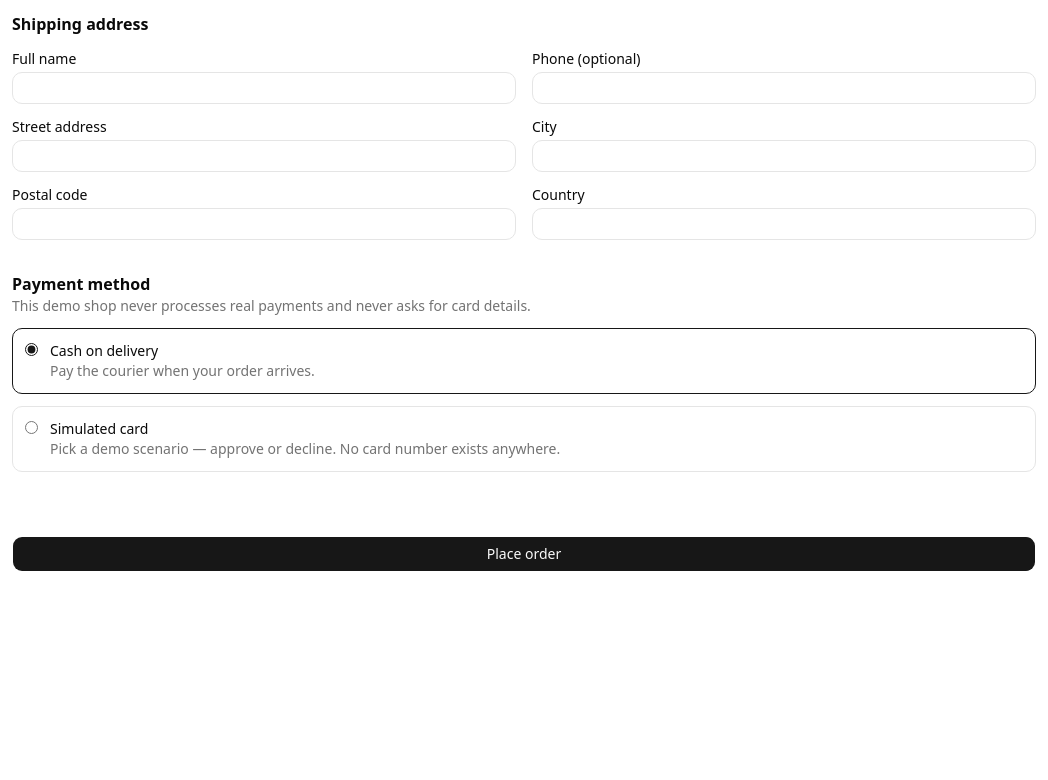
Test: CheckoutForm › lists the affected items and links to the cart on a stock conflict
The width and height of the screenshot is (1048, 780).
Type "Ada Lovelace" into the field labelled "Full name" at {"x": 264, "y": 88}, box top-left (12, 72), bottom-right (516, 104)
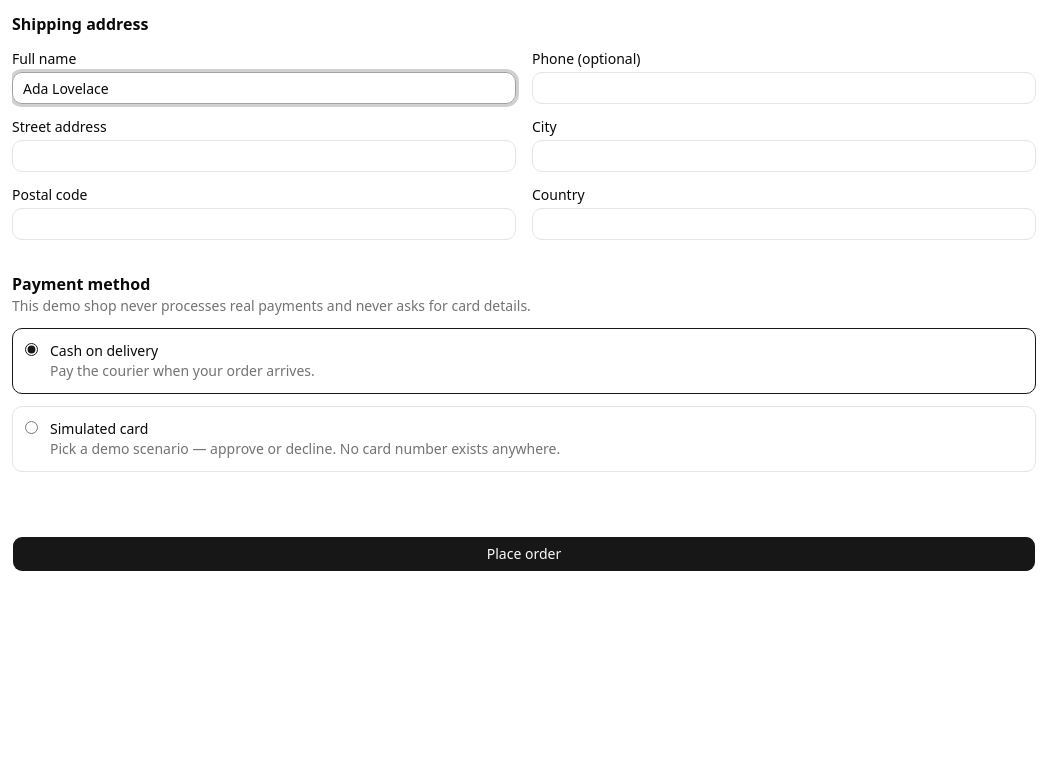
Type "1 Analytical Row" into the field labelled "Street address" at {"x": 264, "y": 156}, box top-left (12, 140), bottom-right (516, 172)
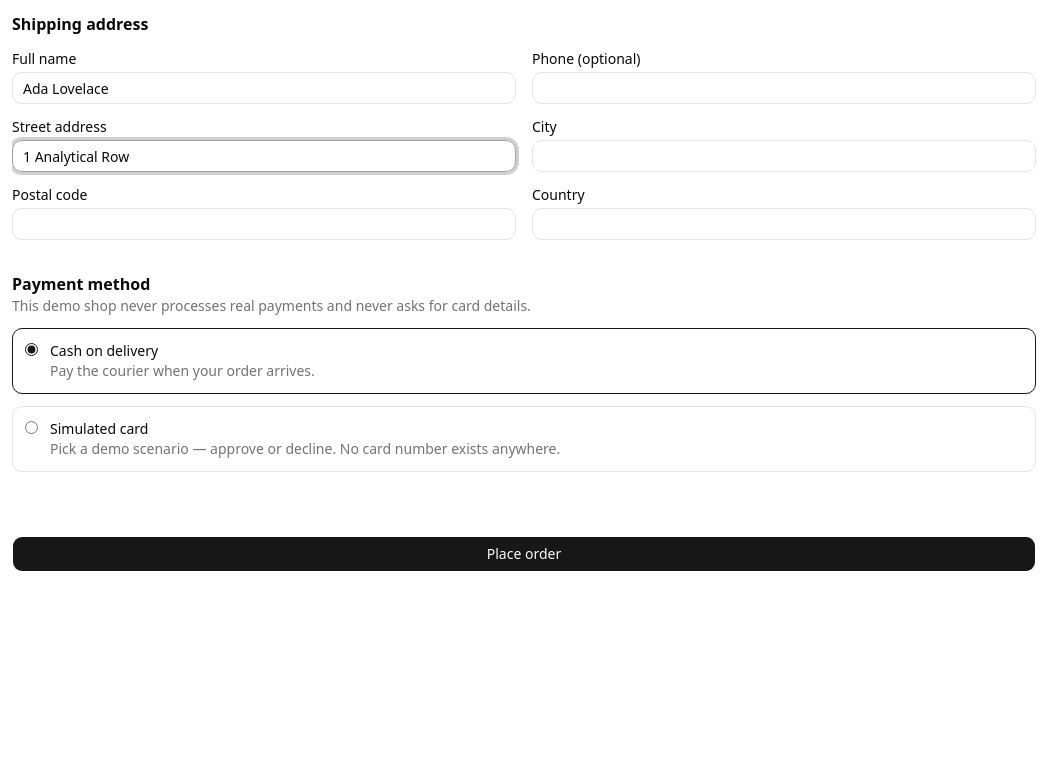
Type "Dublin" into the field labelled "City" at {"x": 784, "y": 156}, box top-left (532, 140), bottom-right (1036, 172)
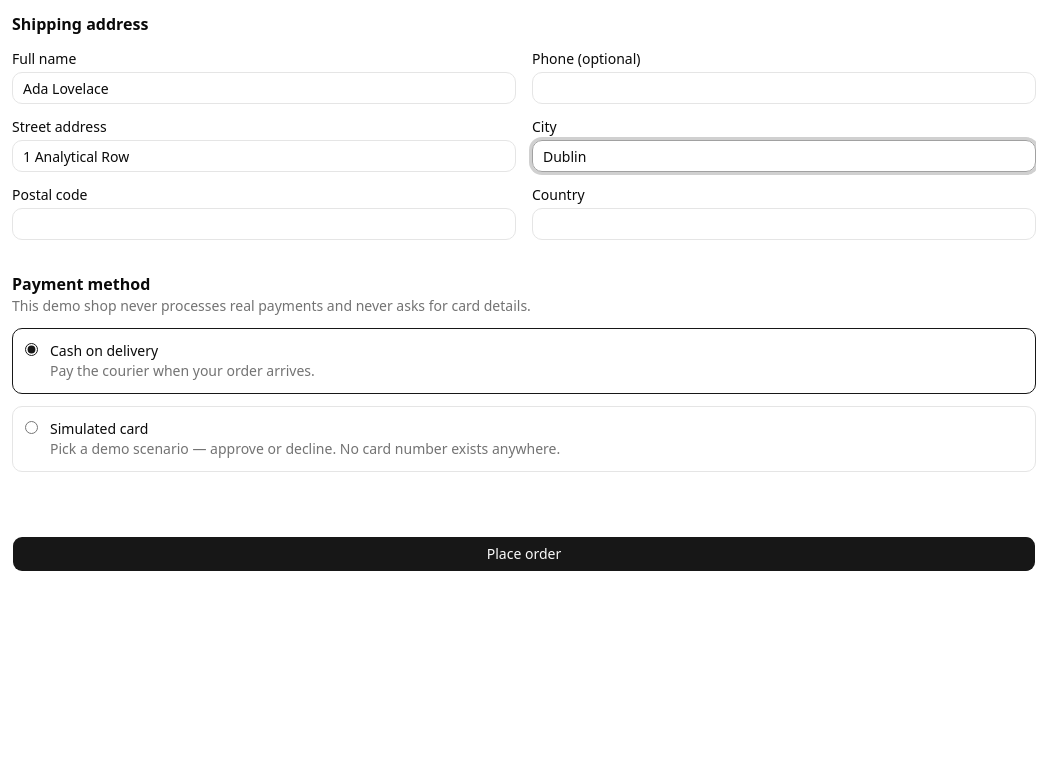
Type "D01" into the field labelled "Postal code" at {"x": 264, "y": 224}, box top-left (12, 208), bottom-right (516, 240)
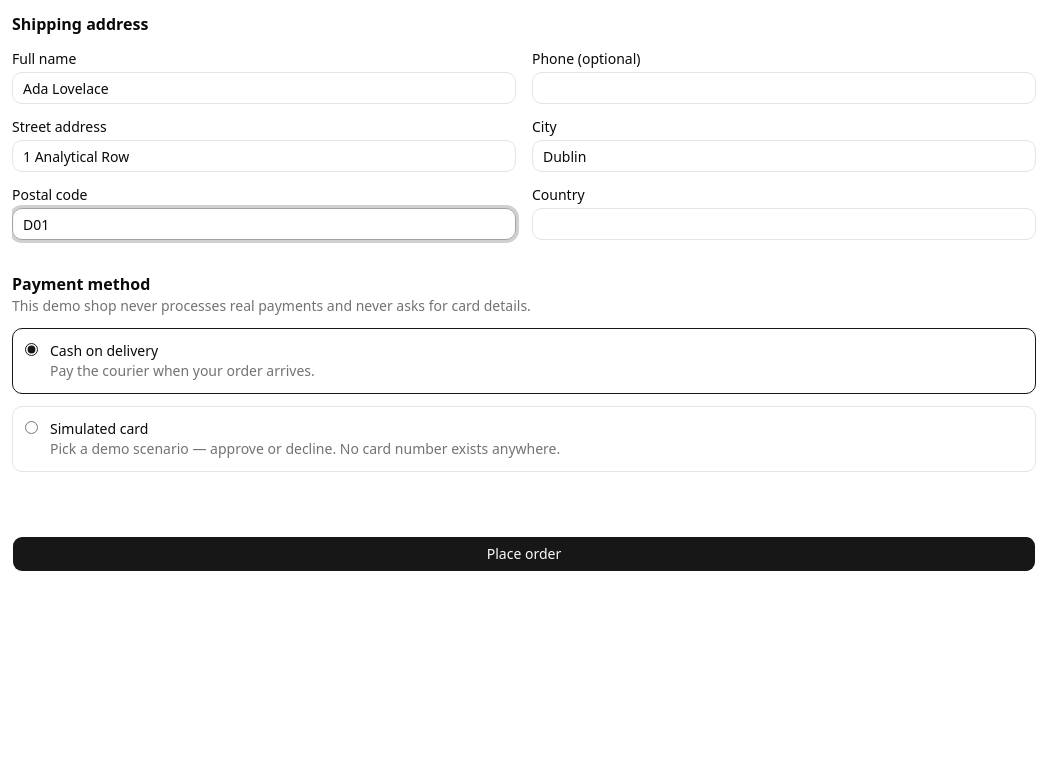
Type "Ireland" into the field labelled "Country" at {"x": 784, "y": 224}, box top-left (532, 208), bottom-right (1036, 240)
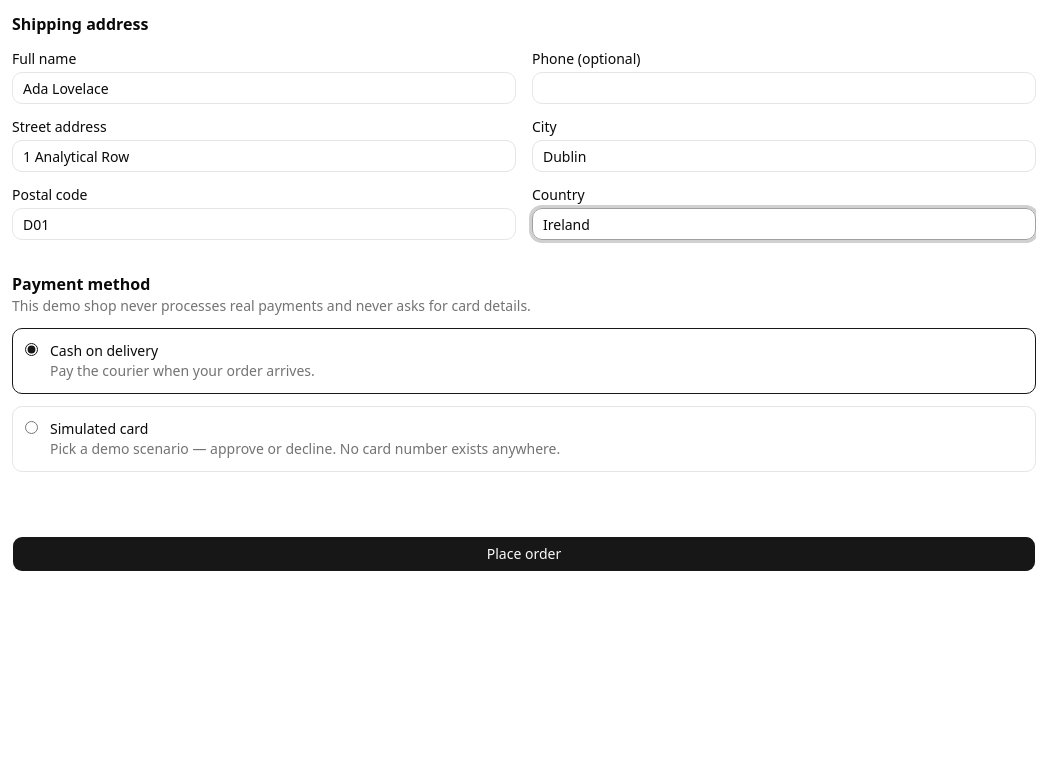
Click the button "Place order" at {"x": 524, "y": 554}, box top-left (12, 536), bottom-right (1036, 572)
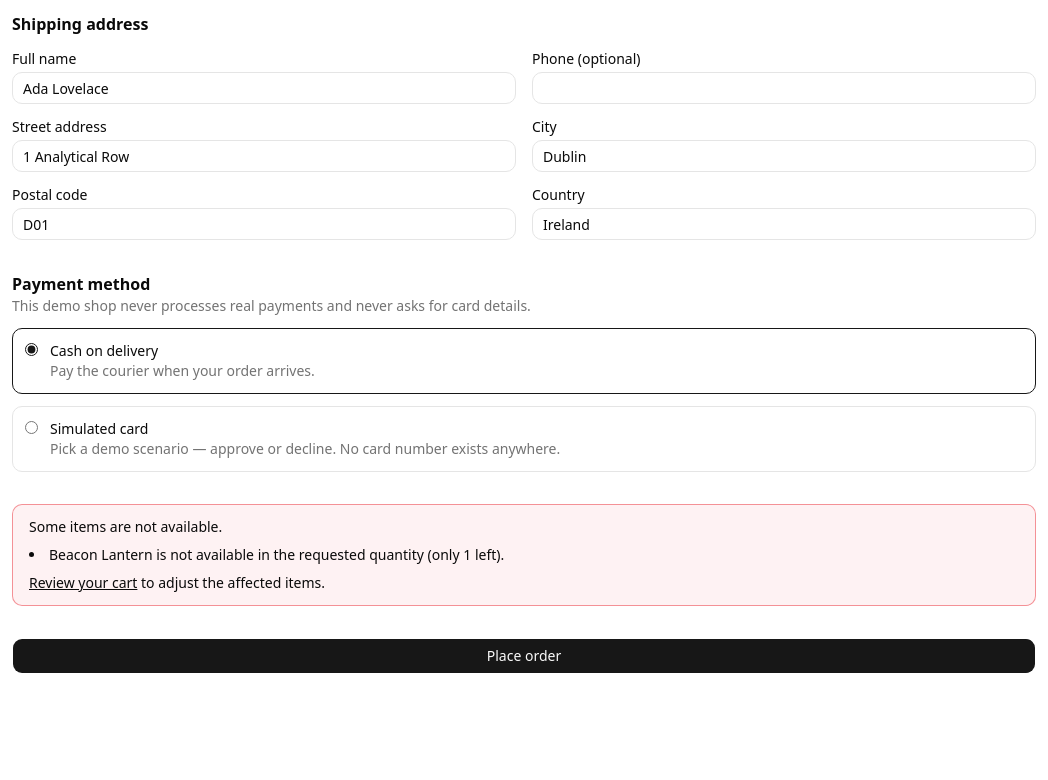
Check: the message shows "Beacon Lantern", box top-left (49, 545), bottom-right (153, 564)
Check: the message shows "only 1 left", box top-left (424, 545), bottom-right (500, 564)
